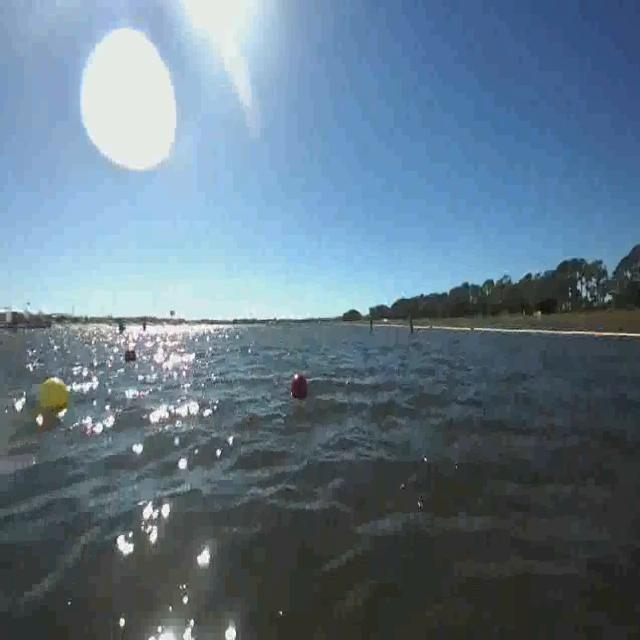red-buoy: (291, 370, 307, 399)
yellow-buoy: (38, 375, 70, 413)
